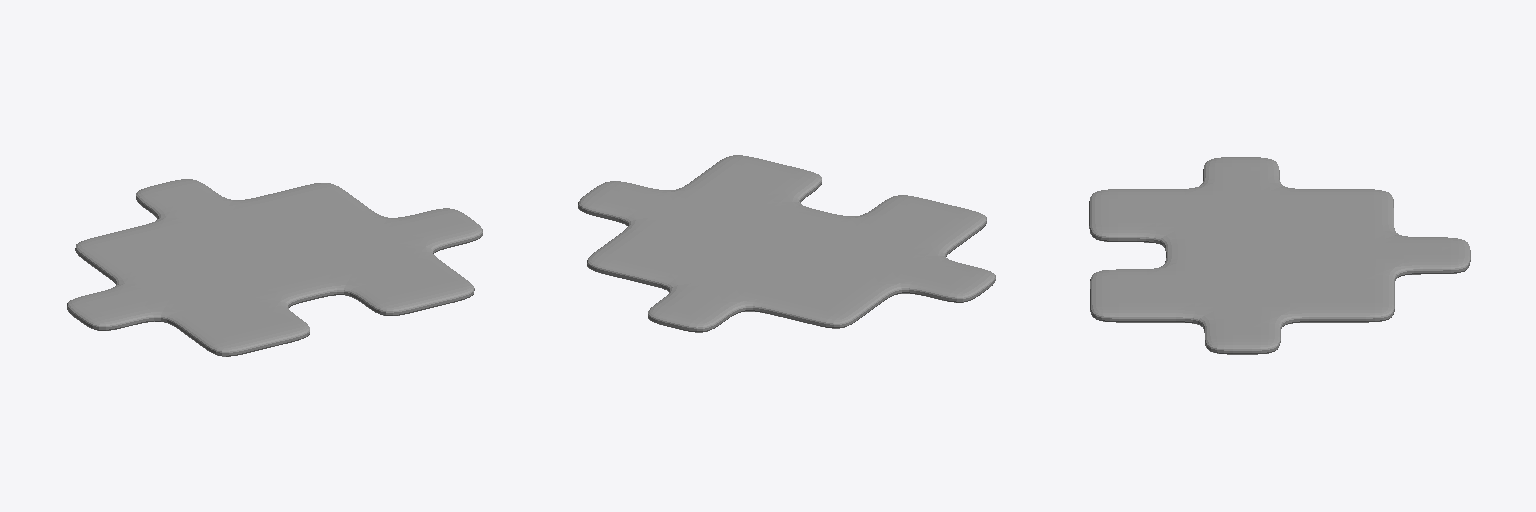
The picture shows the model from 3 angles: view 1: azimuth 30°, elevation 25°; view 2: azimuth 150°, elevation 25°; view 3: azimuth 270°, elevation 25°; orthographic projection.
Visible parts, largest first — view 1: Puzzle.005_Puzzle.005_GoldenEggMaterial; view 2: Puzzle.005_Puzzle.005_GoldenEggMaterial; view 3: Puzzle.005_Puzzle.005_GoldenEggMaterial.
Part boxes in pixels (x1,y1,x2,y2): Puzzle.005_Puzzle.005_GoldenEggMaterial: (67, 179, 482, 356); Puzzle.005_Puzzle.005_GoldenEggMaterial: (578, 155, 995, 332); Puzzle.005_Puzzle.005_GoldenEggMaterial: (1089, 157, 1470, 354).
Bounding box in the file's own units: 0.375 × 0.0092 × 0.3138.